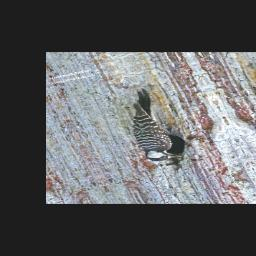Woodpecker: (108, 88, 187, 166)
